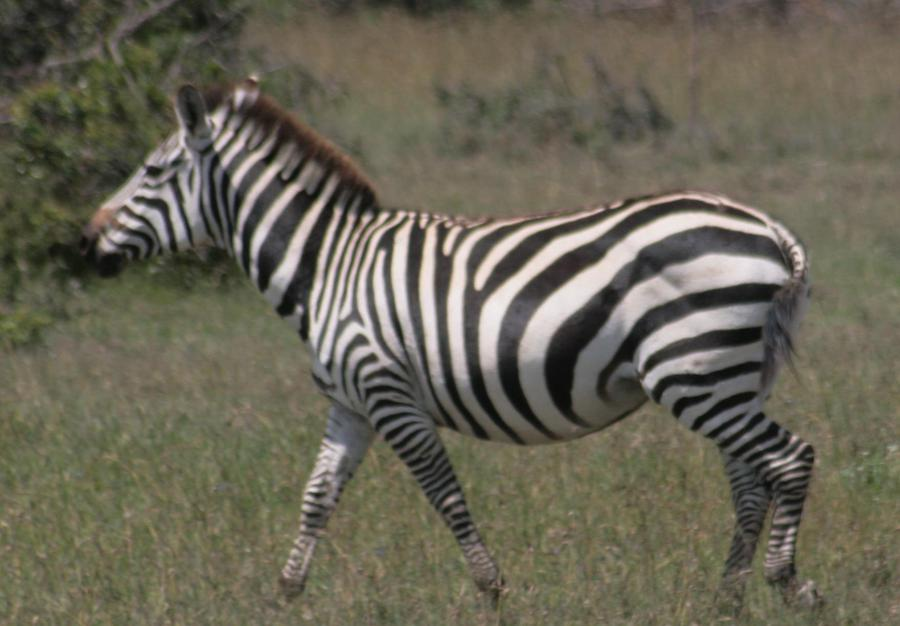zebra_plains: (276, 166, 799, 466)
